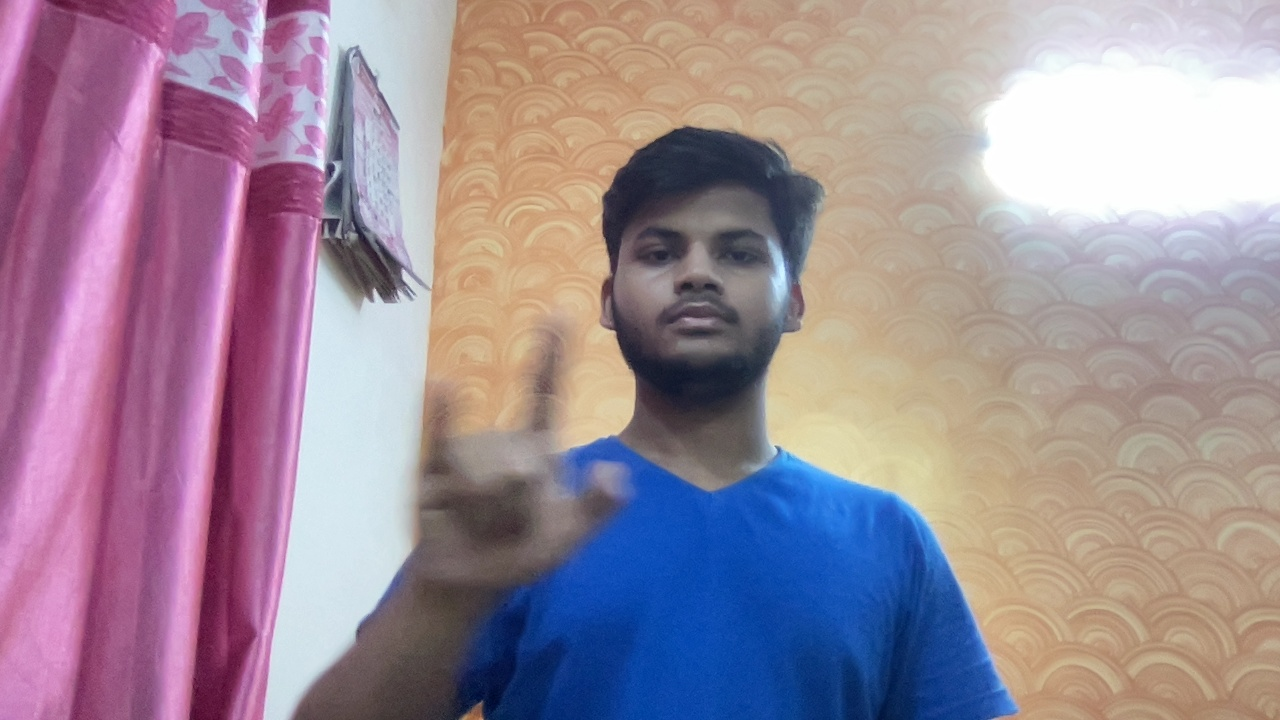iloveyou: (363, 304, 650, 609)
